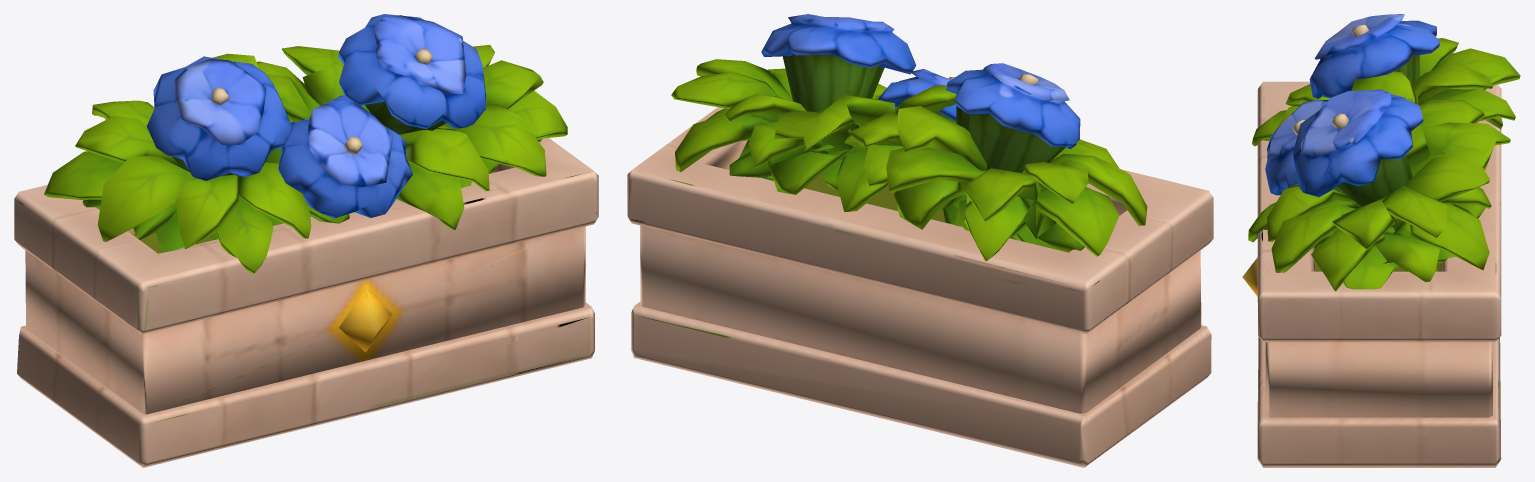
Rendered from planter_stone.glb.
3 renders of one model, left to right at view 1: azimuth 30°, elevation 25°; view 2: azimuth 150°, elevation 25°; view 3: azimuth 270°, elevation 25°, orthographic. The views are drawn at different scales.
Parts seen in each view (by area): view 1: geometry_0; view 2: geometry_0; view 3: geometry_0.
Part boxes in pixels (x1,y1,x2,y2): geometry_0: (14,14,598,467); geometry_0: (627,14,1213,467); geometry_0: (1242,14,1520,467).
Size of the model in its own units: 0.9551 by 0.6357 by 0.5171.
Materials: 1 (1 with a texture image).
